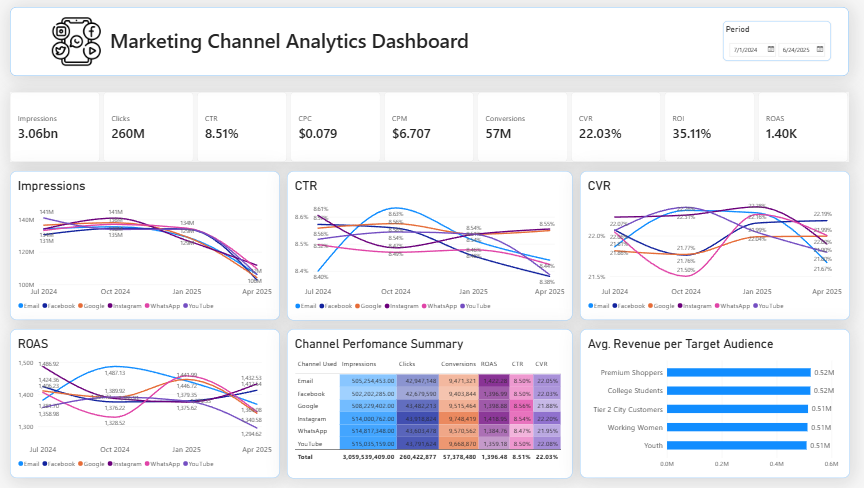

The dashboard page shown, as its layout file describes it:
{"tool":"powerbi","page":{"name":"Page 1","canvas":[1920,1080],"ordinal":0},"visuals":[{"type":"cardVisual","title":"Social Media Funnel","fields":{"Data":["Measure.Impressions","Measure.Clicks","Measure.CTR","Measure.CPC","Measure.CPM","Measure.Conversions","Measure.CVR","Measure.ROI","Measure.ROAS"]},"box":[51.8,224.6,1812.2,151.2],"z":0},{"type":"lineChart","title":"Impressions","fields":{"Y":["Measure.Impressions"],"Series":["Assignment Marketing Channel Datasets.Channel_Used"],"Category":["Assignment Marketing Channel Datasets.Date Start.Variation.Date Hierarchy.Year","Assignment Marketing Channel Datasets.Date Start.Variation.Date Hierarchy.Quarter"]},"box":[51.8,395.3,583.2,321.8],"z":1000},{"type":"lineChart","title":"CTR","fields":{"Series":["Assignment Marketing Channel Datasets.Channel_Used"],"Category":["Assignment Marketing Channel Datasets.Date Start.Variation.Date Hierarchy.Year","Assignment Marketing Channel Datasets.Date Start.Variation.Date Hierarchy.Quarter"],"Y":["Measure.CTR"]},"box":[650.1,395.6,617.3,322.5],"z":2000},{"type":"lineChart","title":"CVR","fields":{"Series":["Assignment Marketing Channel Datasets.Channel_Used"],"Category":["Assignment Marketing Channel Datasets.Date Start.Variation.Date Hierarchy.Year","Assignment Marketing Channel Datasets.Date Start.Variation.Date Hierarchy.Quarter"],"Y":["Measure.CVR"]},"box":[1282.5,395.6,583.2,321.8],"z":3000},{"type":"lineChart","title":"ROAS","fields":{"Series":["Assignment Marketing Channel Datasets.Channel_Used"],"Category":["Assignment Marketing Channel Datasets.Date Start.Variation.Date Hierarchy.Year","Assignment Marketing Channel Datasets.Date Start.Variation.Date Hierarchy.Quarter"],"Y":["Measure.ROAS"]},"box":[52.9,735.7,583.2,321.8],"z":4000},{"type":"tableEx","title":"Channel Perfomance Summary","fields":{"Values":["Assignment Marketing Channel Datasets.Channel_Used","Measure.Impressions","Measure.Clicks","Measure.Conversions","Measure.ROAS","Measure.CTR","Measure.CVR"]},"box":[650.1,735.7,617.3,322.5],"z":5000},{"type":"barChart","title":"Avg. Revenue per Target Audience","fields":{"Category":["Assignment Marketing Channel Datasets.Target_Audience"],"Y":["Avg(Assignment Marketing Channel Datasets.Revenue)"]},"box":[1282.5,735.7,583.2,321.8],"z":6000},{"type":"shape","box":[51.8,41,1812.2,149],"z":6001},{"type":"textbox","box":[267.8,84.2,961.2,64.8],"z":6002},{"type":"image","box":[136.1,62.6,118.8,105.8],"z":6003},{"type":"slicer","title":"Period","fields":{"Values":["Assignment Marketing Channel Datasets.Date Start"]},"box":[1592.4,70.6,232.7,86.3],"z":6004}]}

Visuals, with their boxes in screenshot pixels (x1, y1, x2, y2), scaled from the page's 1920x1080 canvas onto the 864x488 screenshot:
"Social Media Funnel" cardVisual: [23, 101, 839, 170]
"Impressions" lineChart: [23, 179, 286, 324]
"CTR" lineChart: [293, 179, 570, 324]
"CVR" lineChart: [577, 179, 840, 324]
"ROAS" lineChart: [24, 332, 286, 478]
"Channel Perfomance Summary" tableEx: [293, 332, 570, 478]
"Avg. Revenue per Target Audience" barChart: [577, 332, 840, 478]
shape: [23, 19, 839, 86]
textbox: [121, 38, 553, 67]
image: [61, 28, 115, 76]
"Period" slicer: [717, 32, 821, 71]
